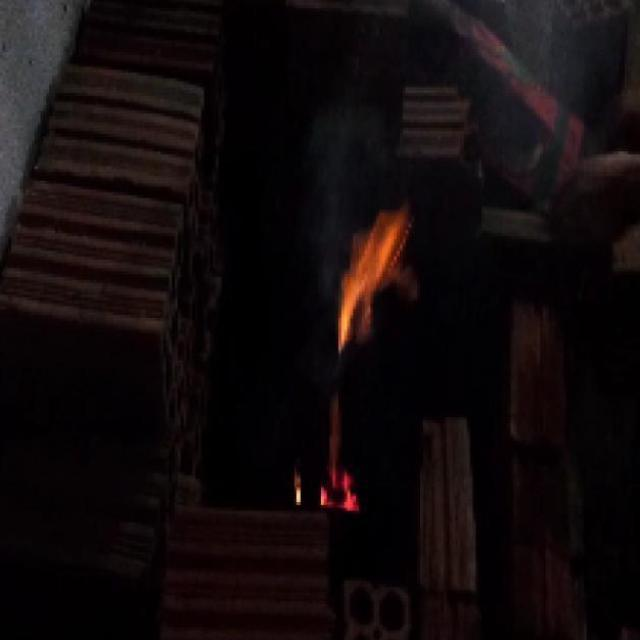smoke: (336, 194, 434, 354), (289, 392, 362, 517)
